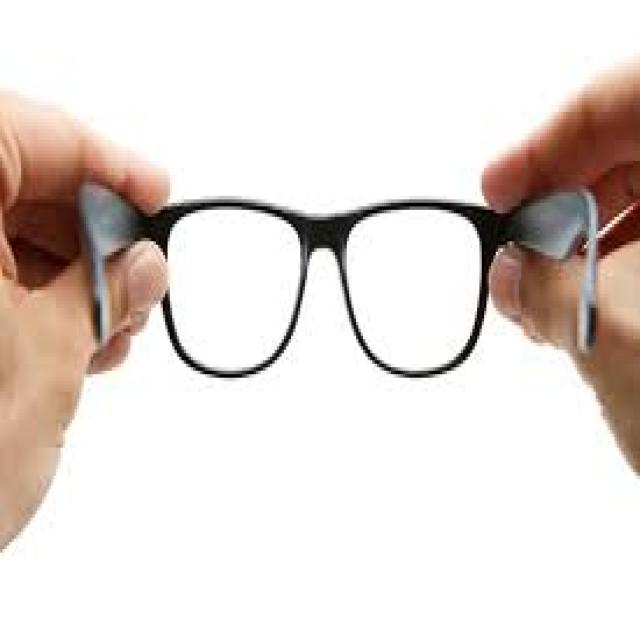specticles: (68, 163, 610, 438)
